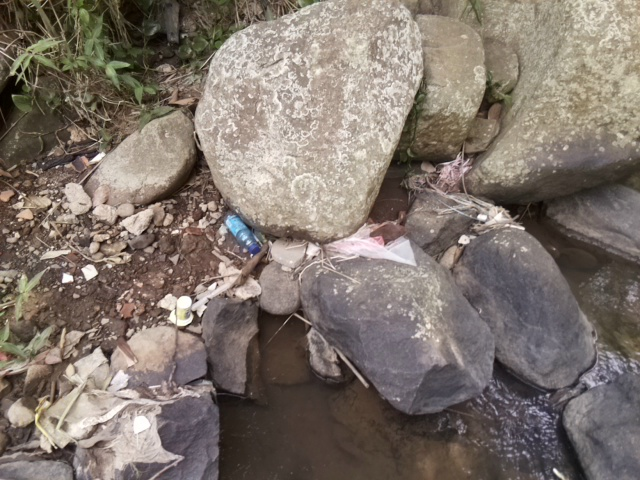Sampah_Botol_Plastik: (220, 209, 266, 254)
Sampah_Plastik: (324, 219, 415, 266), (408, 157, 474, 197)
Sampah_Styrofoam: (168, 296, 196, 326)
